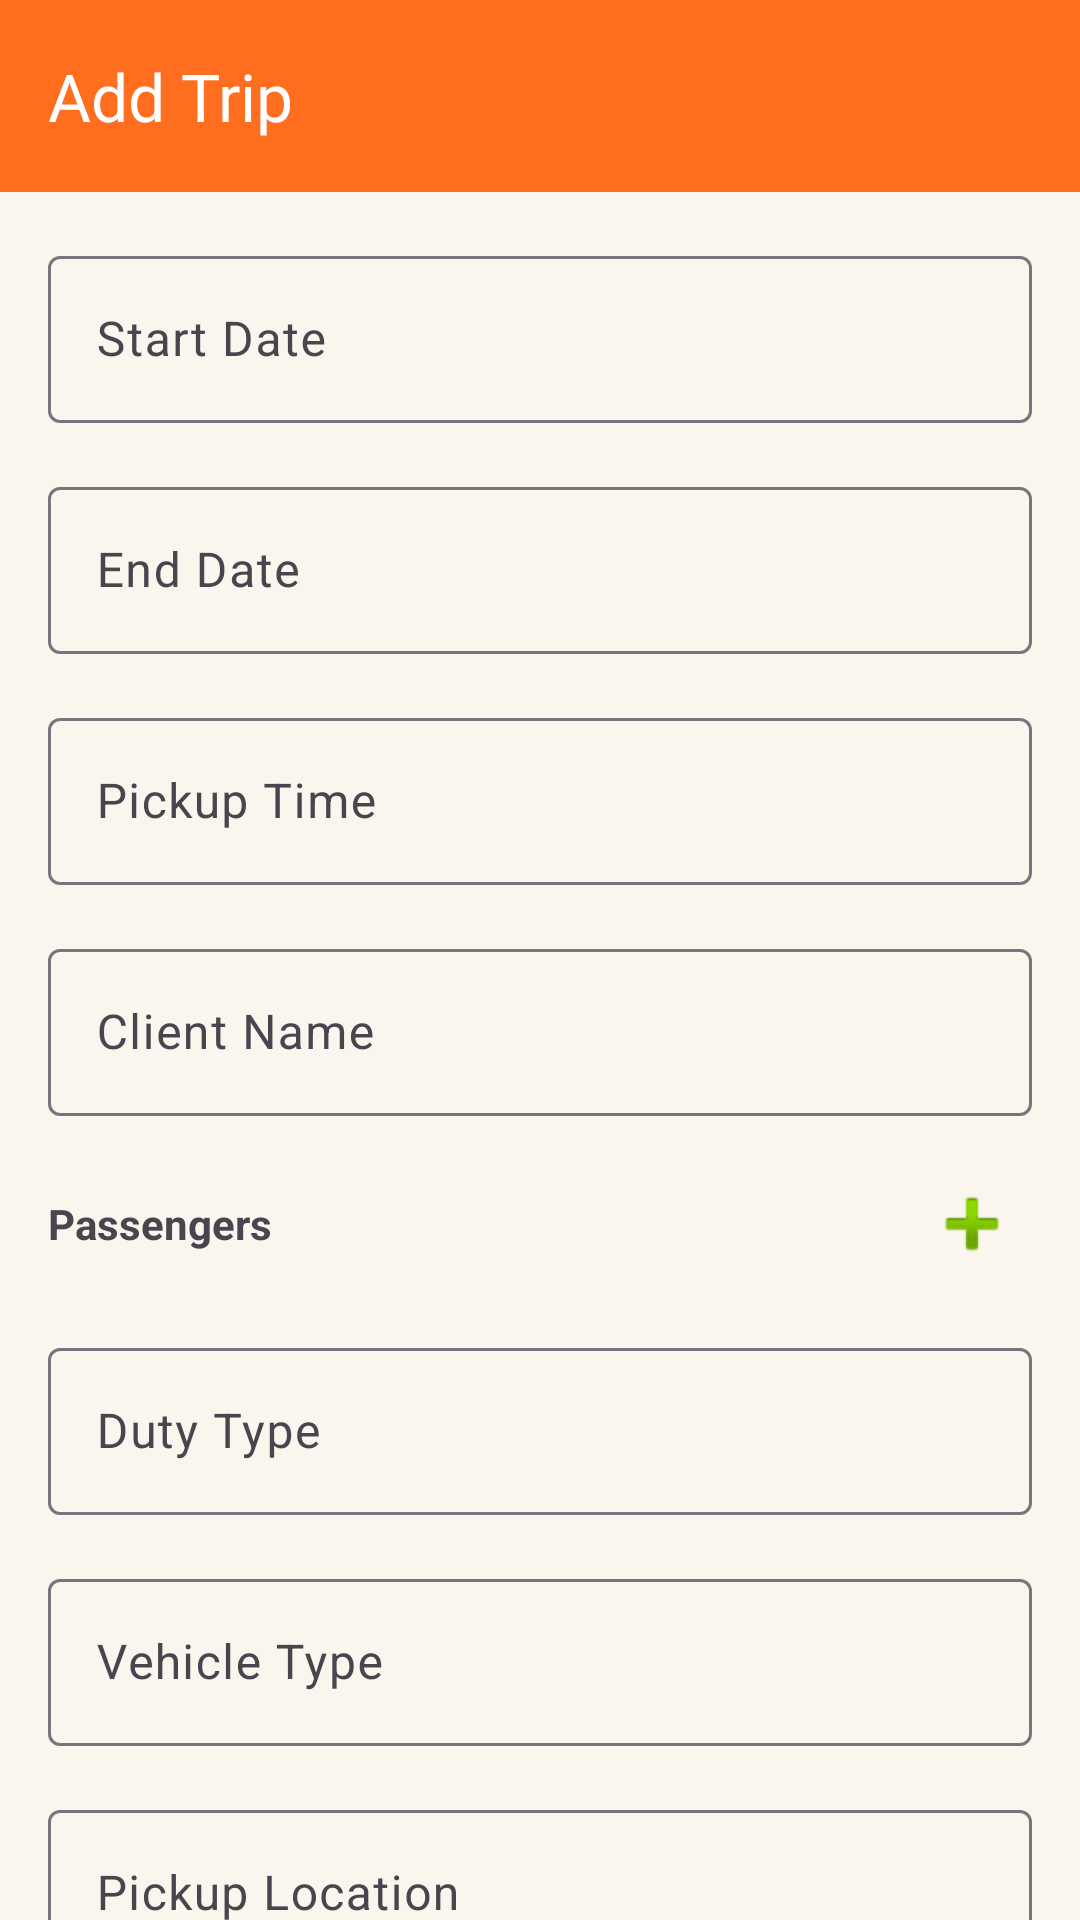

Screen size 1080px x 1920px. Icon name, then its center in pixels as (x,y):
add: (972,1224)
